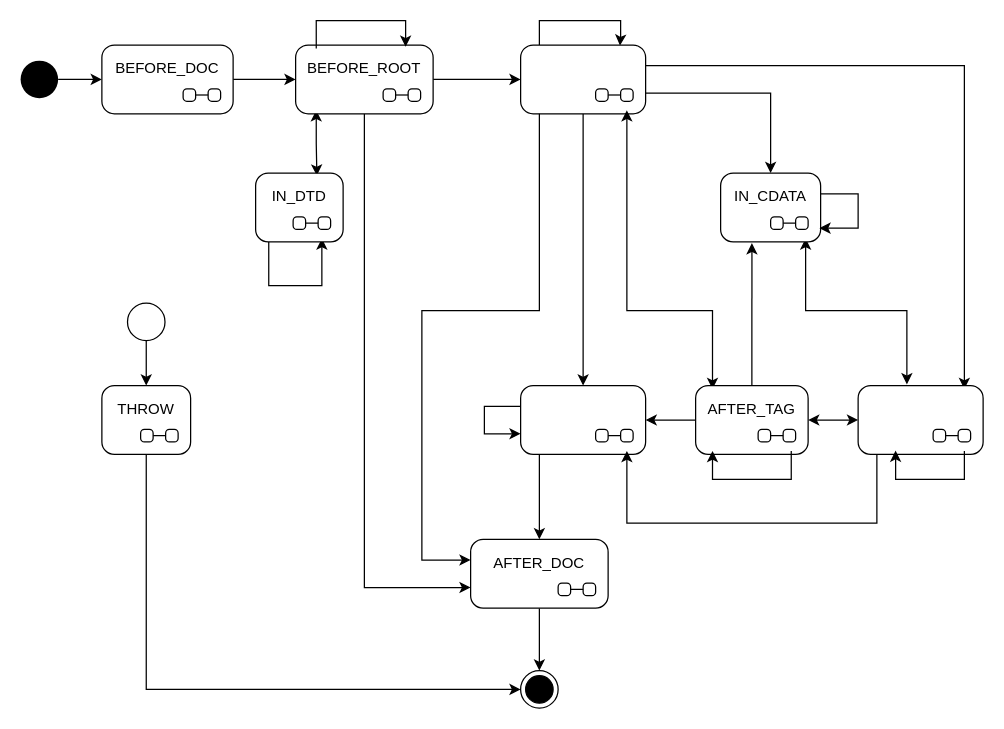
Some shapes in this 1004 by 729 pixel diagram are drawn without their labels. The box of each missing label's shape, as (x1, y1, x2, y2) in pixels:
AFTER_DATA: (857, 384, 983, 454)
AFTER_ROOT: (519, 384, 646, 454)
IN_START_TAG: (519, 44, 646, 114)
